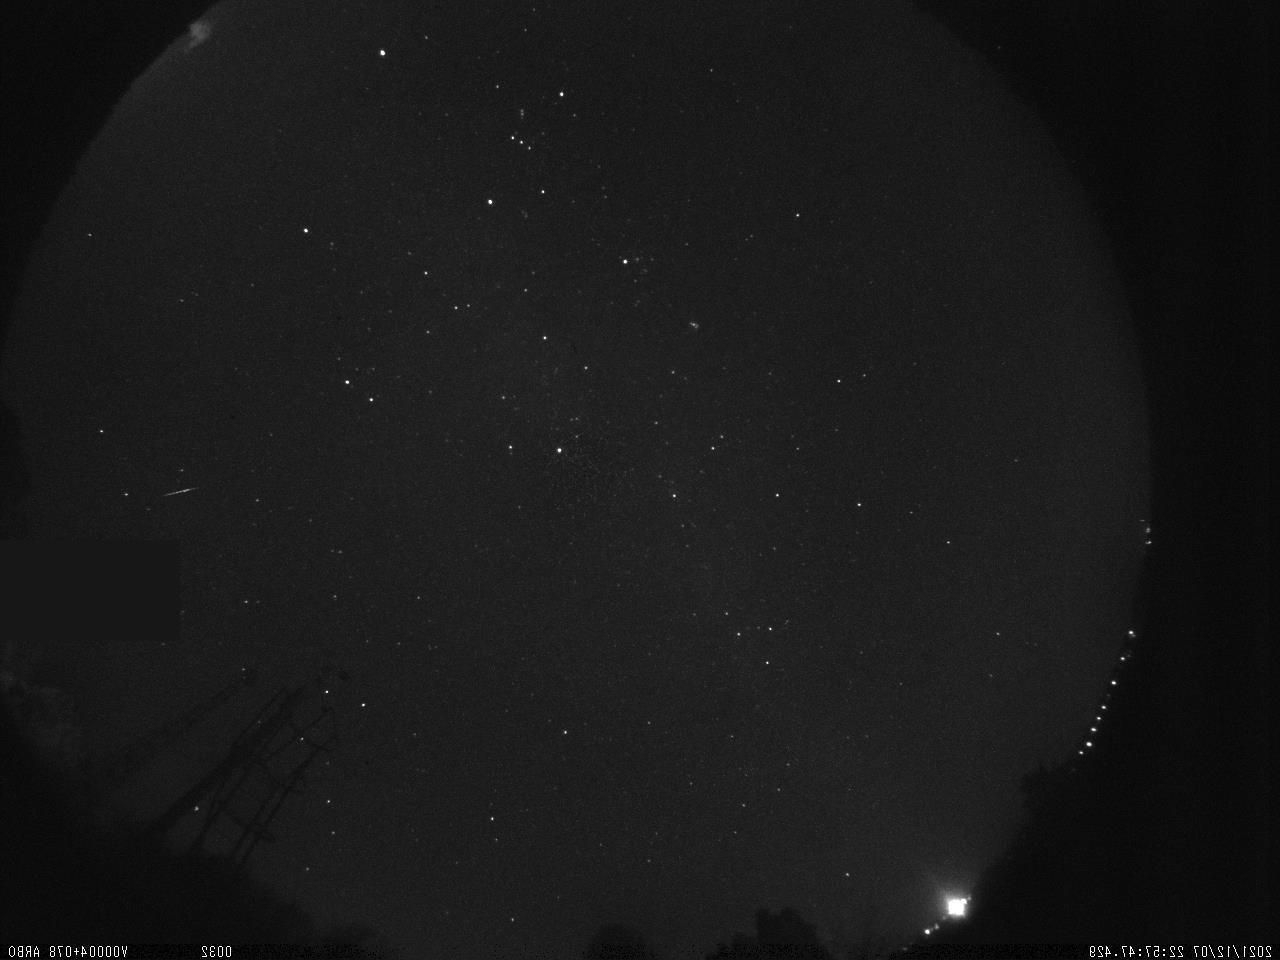meteor: (156, 477, 201, 500)
